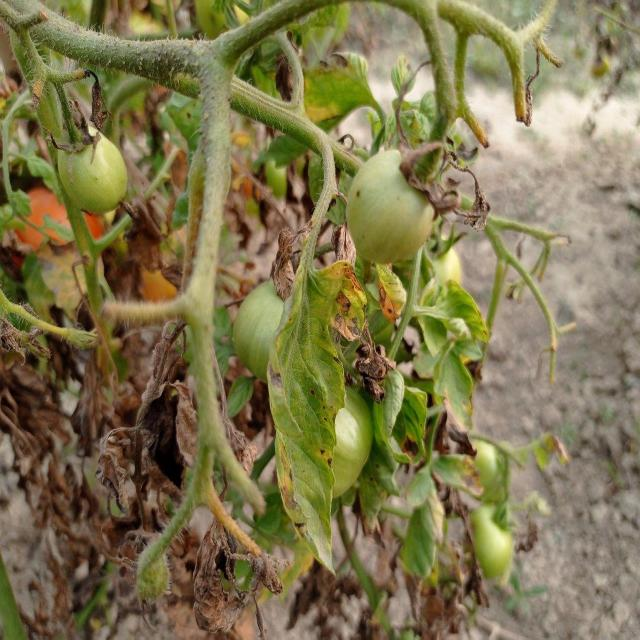Unripe: (345, 144, 433, 266), (55, 123, 127, 214)
